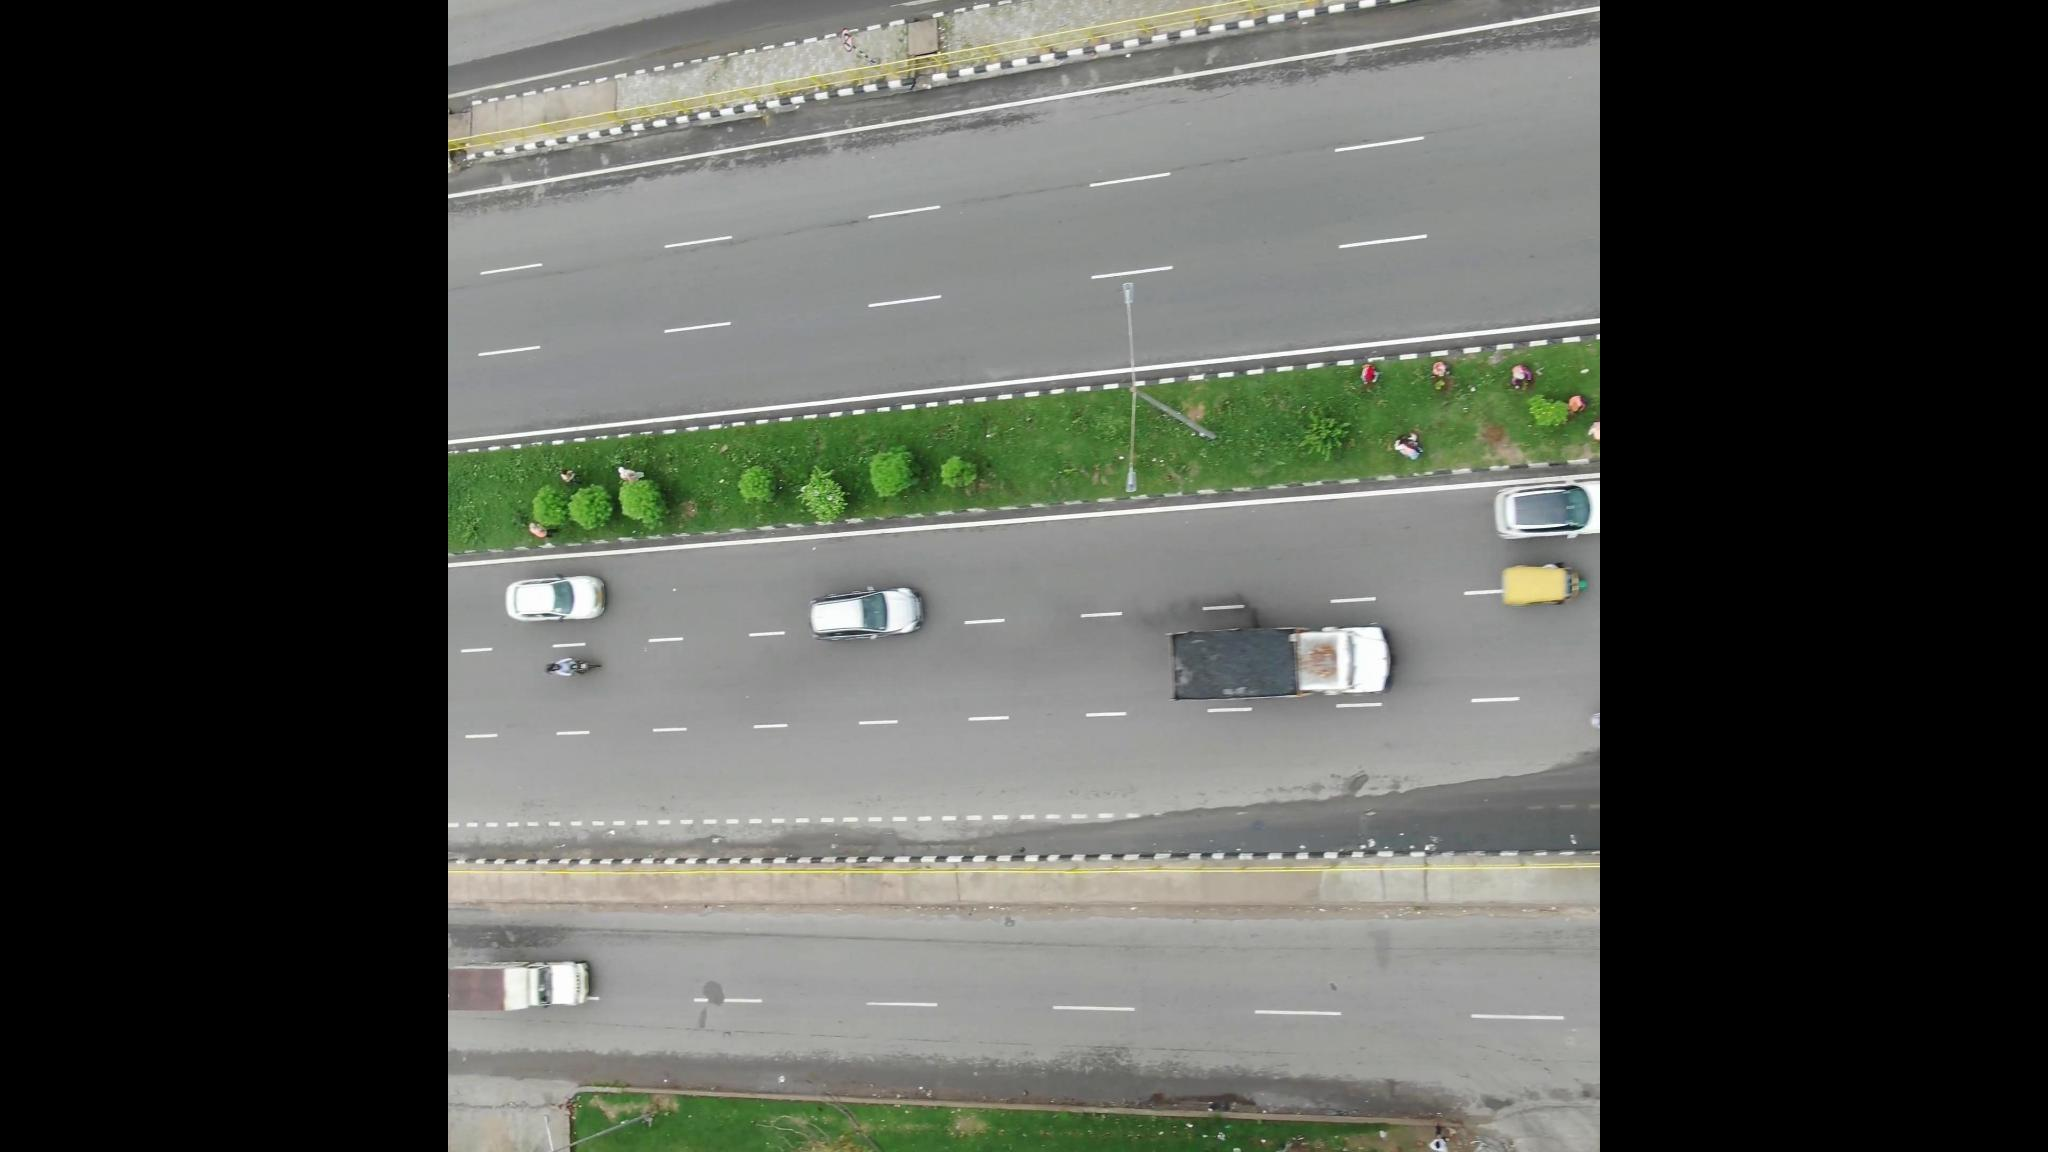Waterlogging: (1276, 765, 1598, 852), (612, 1042, 888, 1113), (973, 1054, 1239, 1124)
